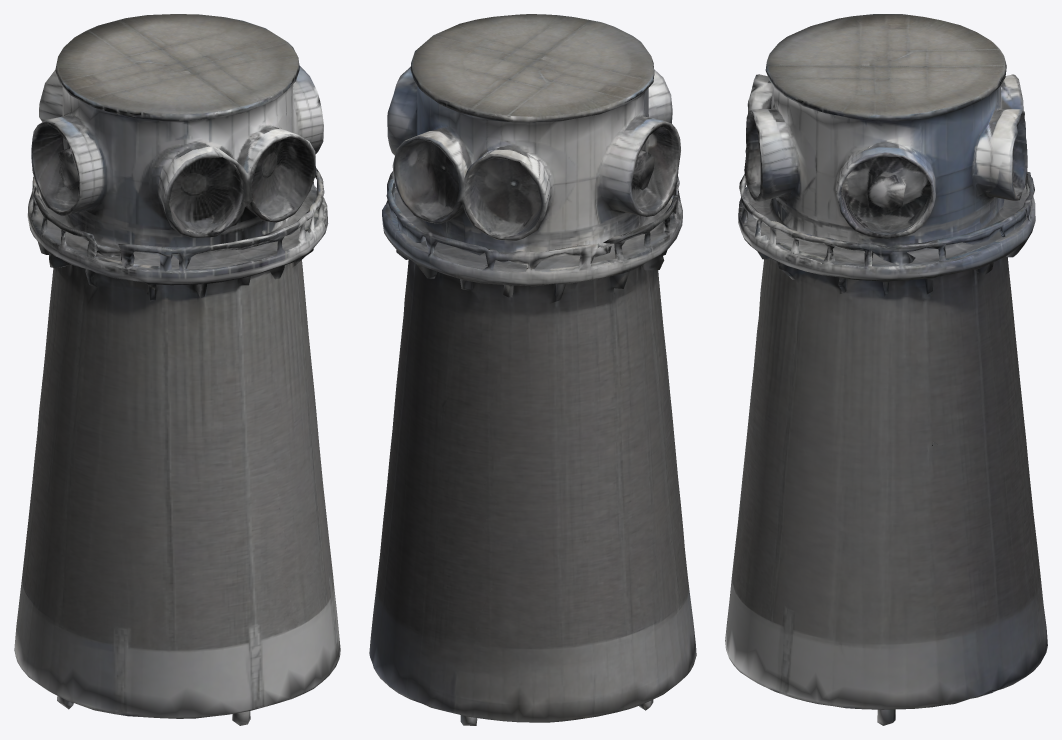
Rendered from Enfriamiento.fbx.
3 renders of one model, left to right at view 1: azimuth 30°, elevation 25°; view 2: azimuth 150°, elevation 25°; view 3: azimuth 270°, elevation 25°, orthographic.
Visible parts, largest first — view 1: Mesh1; view 2: Mesh1; view 3: Mesh1.
Boxes of the visible parts, x1,y1,x2,y2 form: Mesh1: (14,14,340,725); Mesh1: (369,14,696,725); Mesh1: (725,14,1047,725).
Size of the model in its own units: 96.75 by 202 by 97.41.
1 material, 1 textured.
